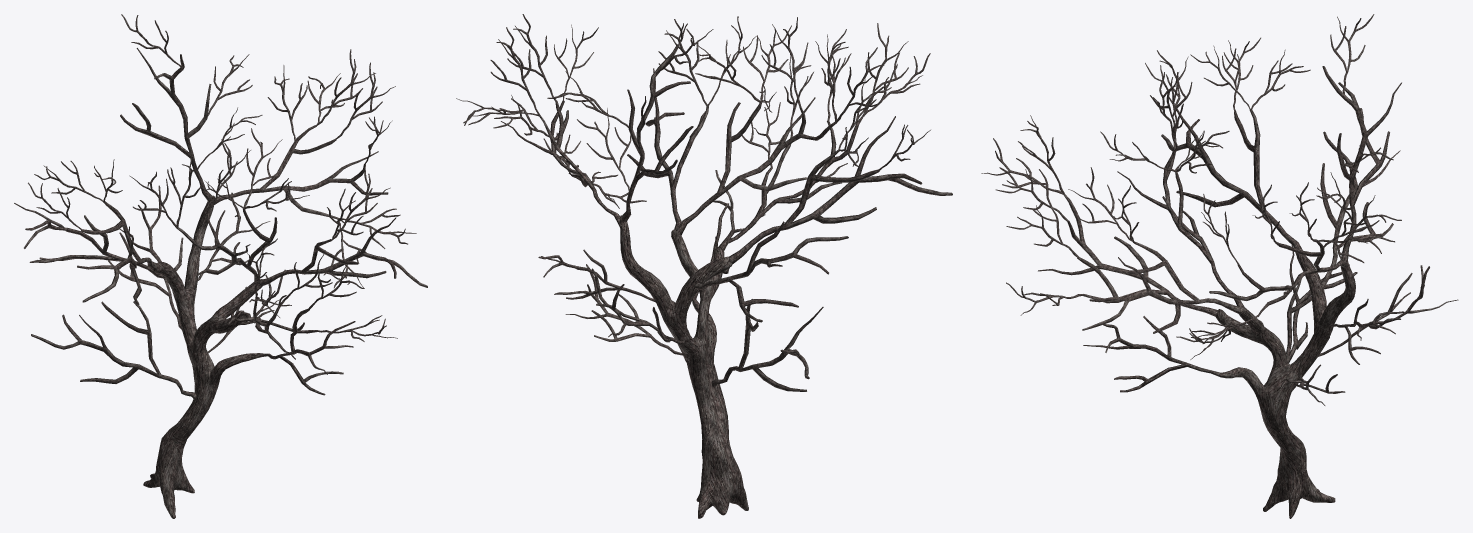
Rendered from stree.fbx.
3 views of the same model, side by side, from view 1: azimuth 30°, elevation 25°; view 2: azimuth 150°, elevation 25°; view 3: azimuth 270°, elevation 25° (orthographic). The views are drawn at different scales.
Parts seen in each view (by area): view 1: stree_Mesh_001; view 2: stree_Mesh_001; view 3: stree_Mesh_001.
Part boxes in pixels (x1=…): stree_Mesh_001: x1=14, y1=14, x2=427, y2=518; stree_Mesh_001: x1=456, y1=14, x2=952, y2=518; stree_Mesh_001: x1=981, y1=14, x2=1458, y2=518.
Bounding box in the file's own units: 973 × 1188 × 1031.
Materials: 1 (1 with a texture image).
